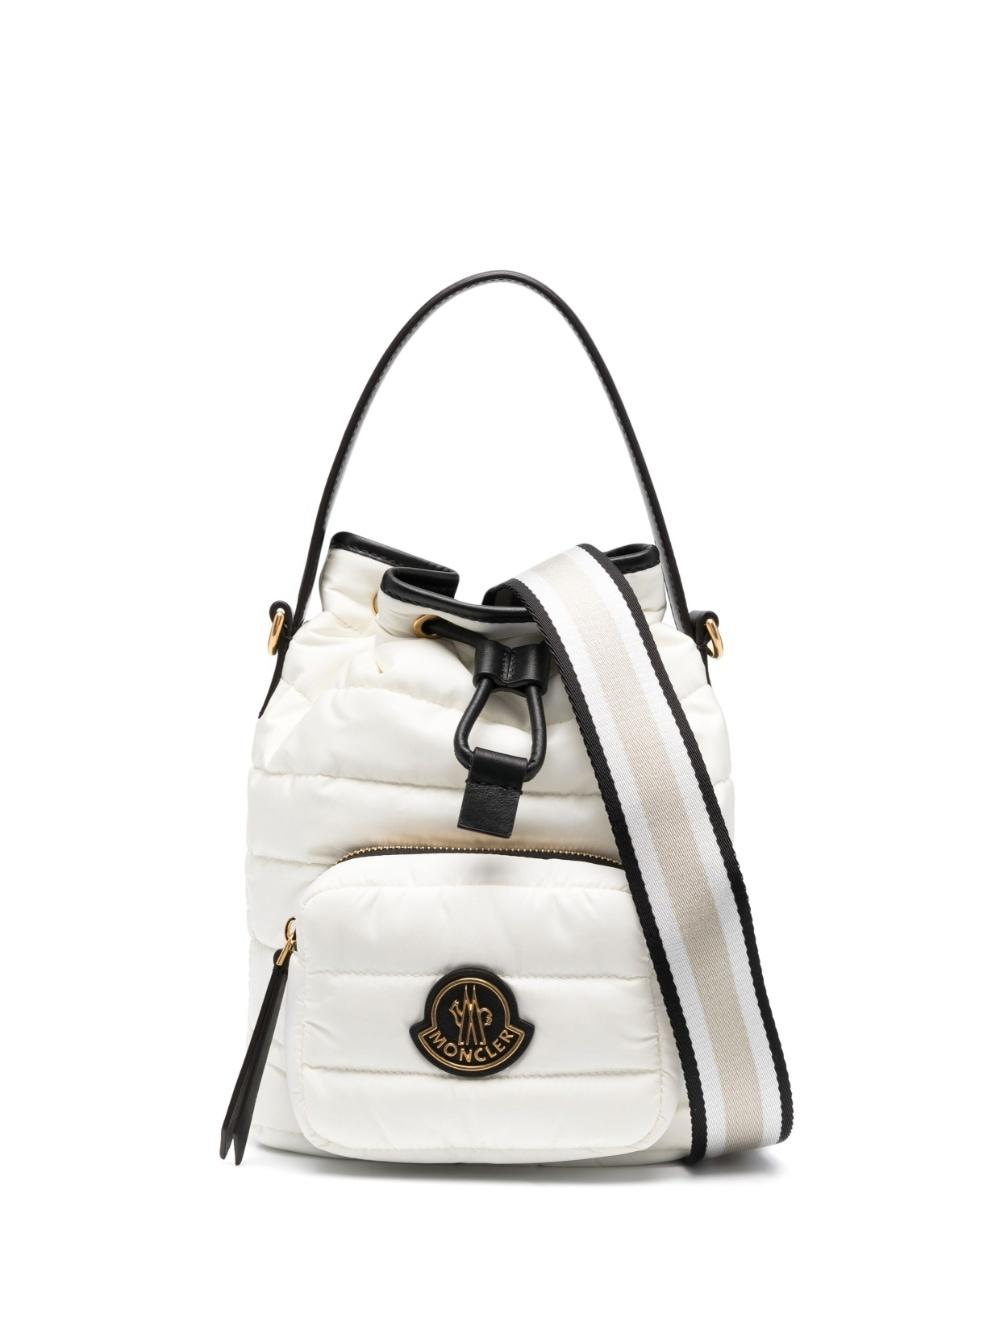MONCLER: (408, 965, 535, 1080)
